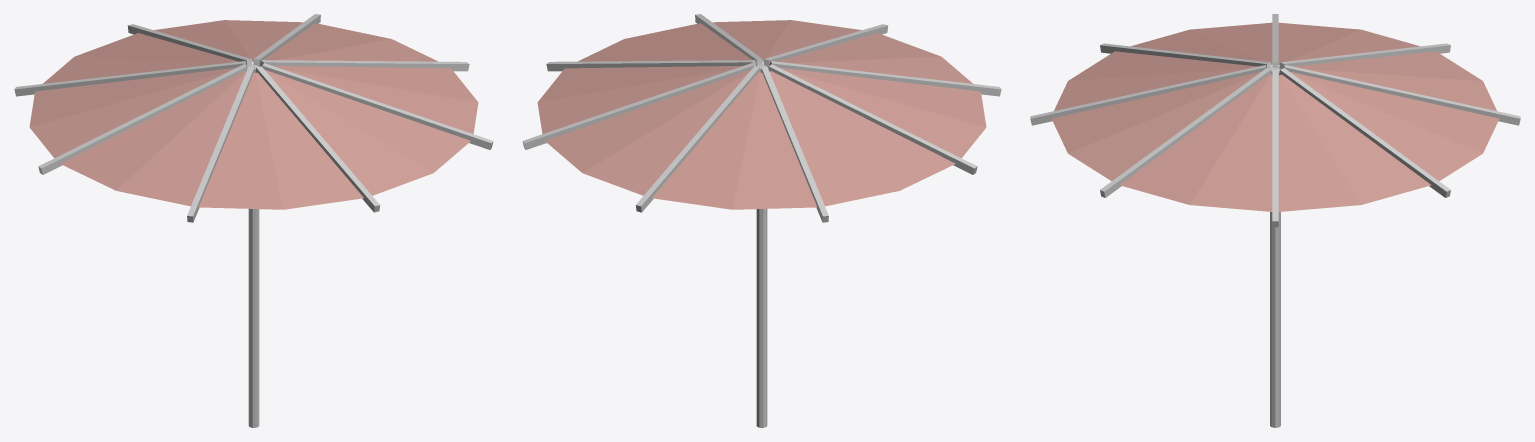
Rendered from Umbrella_Merged.fbx.
3 renders of one model, left to right at view 1: azimuth 30°, elevation 25°; view 2: azimuth 150°, elevation 25°; view 3: azimuth 270°, elevation 25°, orthographic.
Parts seen in each view (by area): view 1: Cube; view 2: Cube; view 3: Cube.
Boxes of the visible parts, left/top/right/bottom form: Cube: left=14, top=14, right=493, bottom=427; Cube: left=522, top=14, right=1001, bottom=427; Cube: left=1030, top=14, right=1520, bottom=427.
Size of the model in its own units: 400 by 323 by 400.
